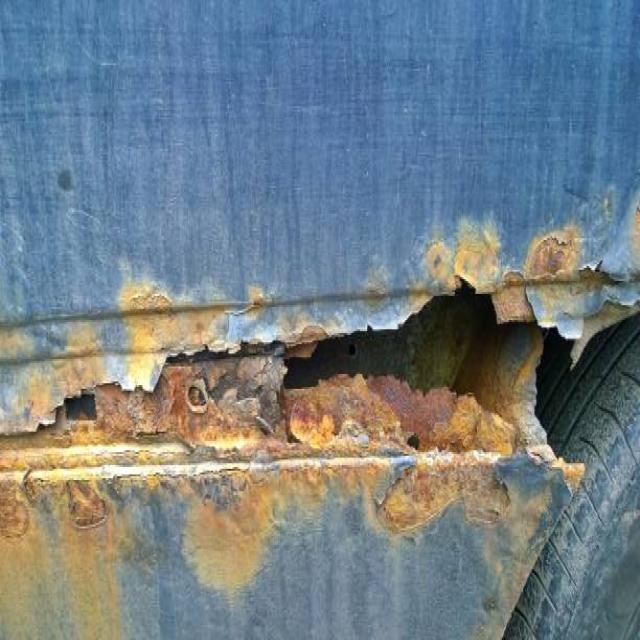Bad Weld: (30, 252, 639, 494)
Defect: (164, 338, 290, 374)
